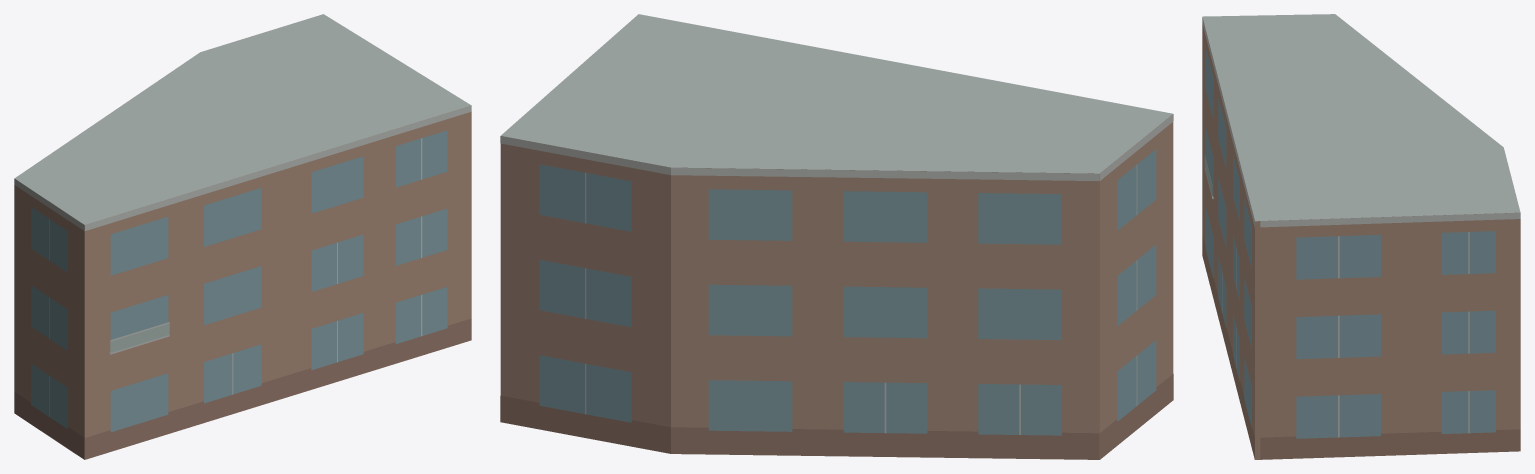
Rendered from survey-upis-32997123.glb.
3 renders of one model, left to right at view 1: azimuth 30°, elevation 25°; view 2: azimuth 150°, elevation 25°; view 3: azimuth 270°, elevation 25°, orthographic. The views are drawn at different scales.
Parts seen in each view (by area): view 1: survey-upis-32997123.tmp; view 2: survey-upis-32997123.tmp; view 3: survey-upis-32997123.tmp.
Boxes of the visible parts, box(x1,y1,x2,y2) form: survey-upis-32997123.tmp: box(14, 14, 471, 459); survey-upis-32997123.tmp: box(500, 14, 1173, 459); survey-upis-32997123.tmp: box(1202, 14, 1520, 459).
Bounding box in the file's own units: 17.04 × 9.15 × 11.07.
